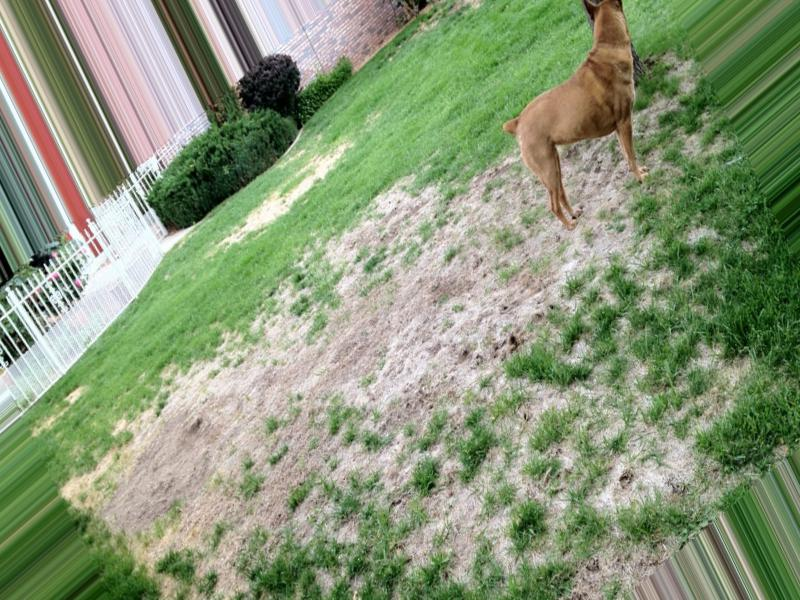patch: (382, 206, 499, 295), (98, 465, 200, 550), (405, 505, 539, 566), (161, 382, 246, 464), (288, 300, 364, 386), (240, 465, 334, 526), (313, 394, 407, 451), (528, 402, 595, 461), (604, 212, 669, 270), (408, 322, 493, 366), (650, 407, 712, 459), (456, 390, 503, 449), (727, 351, 779, 396), (538, 239, 591, 282), (240, 189, 289, 235), (611, 485, 669, 507), (289, 160, 322, 182)
